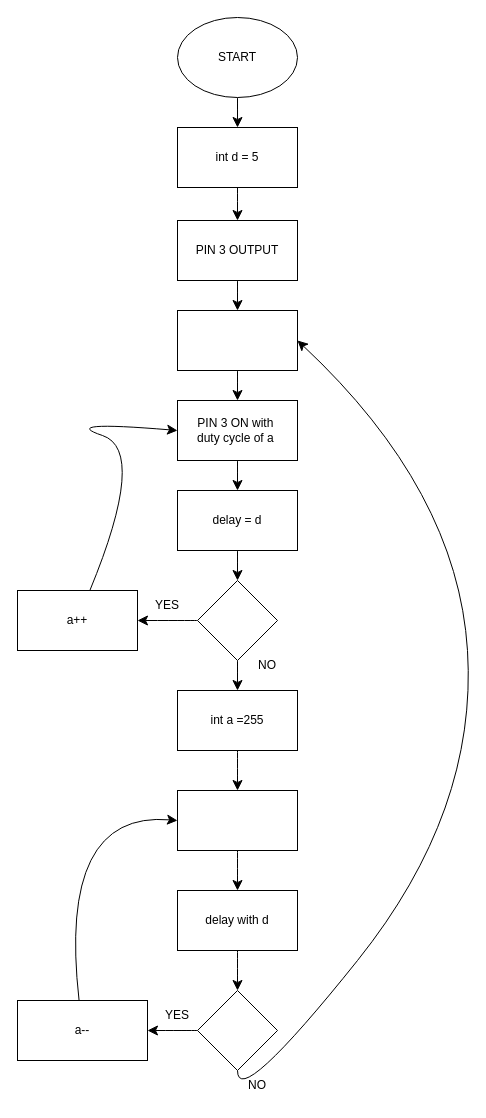
Image size: 486x1118. Some labels were removed from this diagram. The centre of each missing label's shape, as x and y in pixels:
"a>=0" goes at [237,1030].
"if a<256" goes at [237,620].
"INT a = 0" goes at [237,340].
"PIN 3 turning off With duty cycle a" goes at [237,820].
